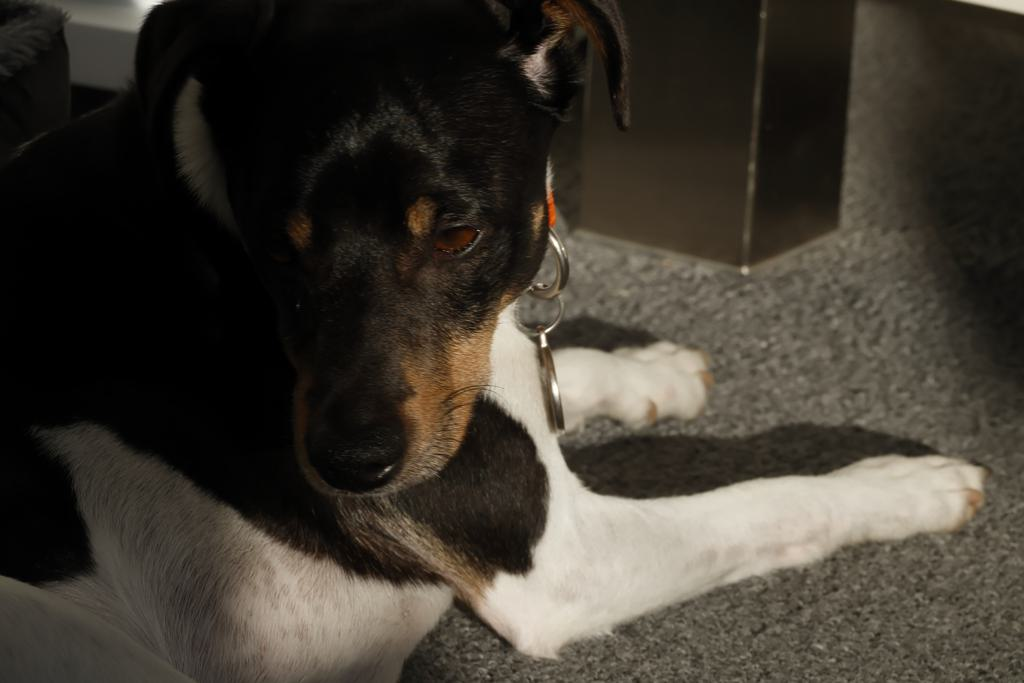Dog: (0, 0, 989, 683)
